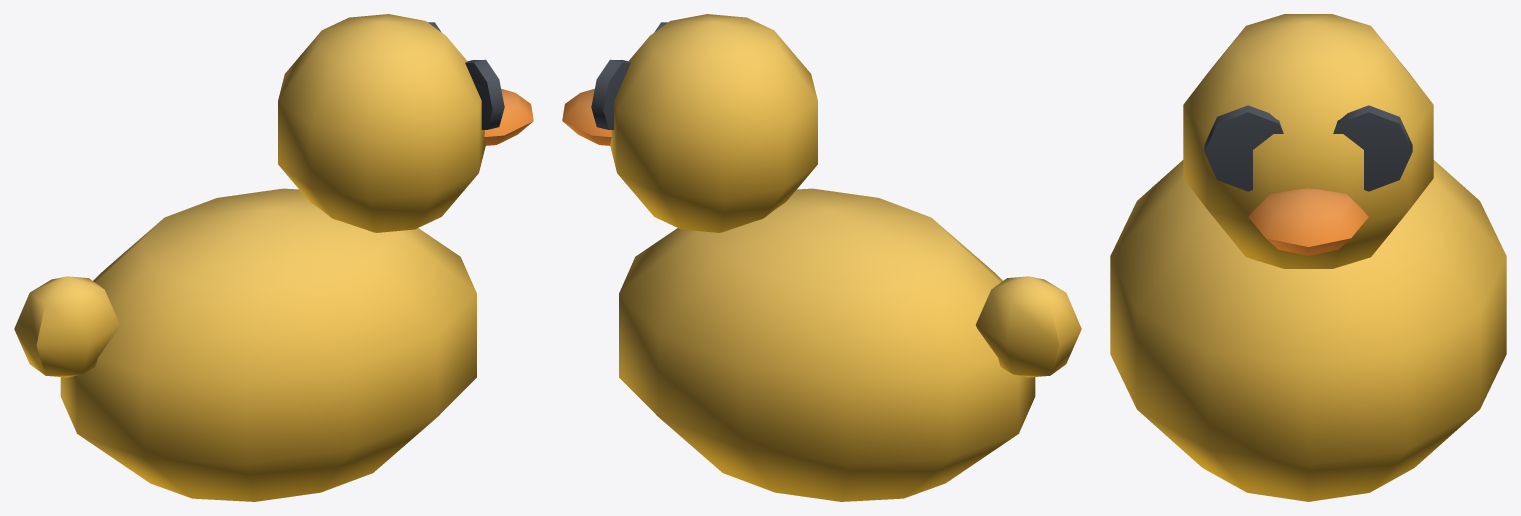
Rendered from dt_rubber_duck_sunglasses.fbx.
3 views of the same model, side by side, from view 1: azimuth 30°, elevation 25°; view 2: azimuth 150°, elevation 25°; view 3: azimuth 270°, elevation 25° (orthographic). The views are drawn at different scales.
Parts seen in each view (by area): view 1: dt_rubber_duck_sunglasses; view 2: dt_rubber_duck_sunglasses; view 3: dt_rubber_duck_sunglasses.
Boxes of the visible parts, left/top/right/bottom form: dt_rubber_duck_sunglasses: left=14, top=14, right=533, bottom=501; dt_rubber_duck_sunglasses: left=562, top=14, right=1081, bottom=501; dt_rubber_duck_sunglasses: left=1110, top=14, right=1506, bottom=501.
Size of the model in its own units: 120 by 97.61 by 69.17.
